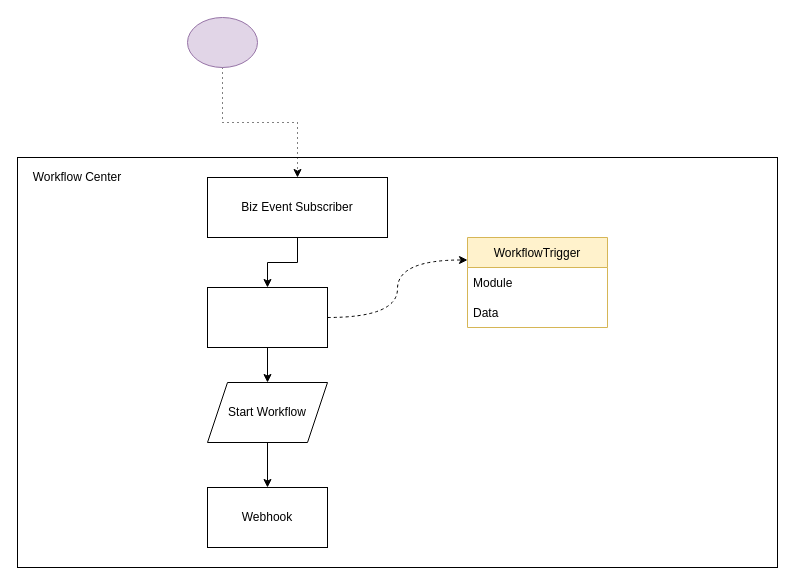
Image size: 795x585. Some labels were removed from this diagram. Here are the shapes that lost their labels. From the top down, the centre of each, then its label:
At [222,42]: "Biz Event".
At [267,317]: "Workflow Trigger".
